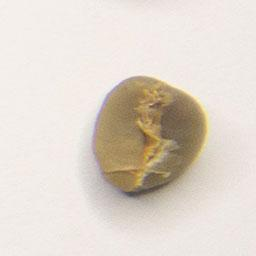premium: (90, 70, 213, 196)
